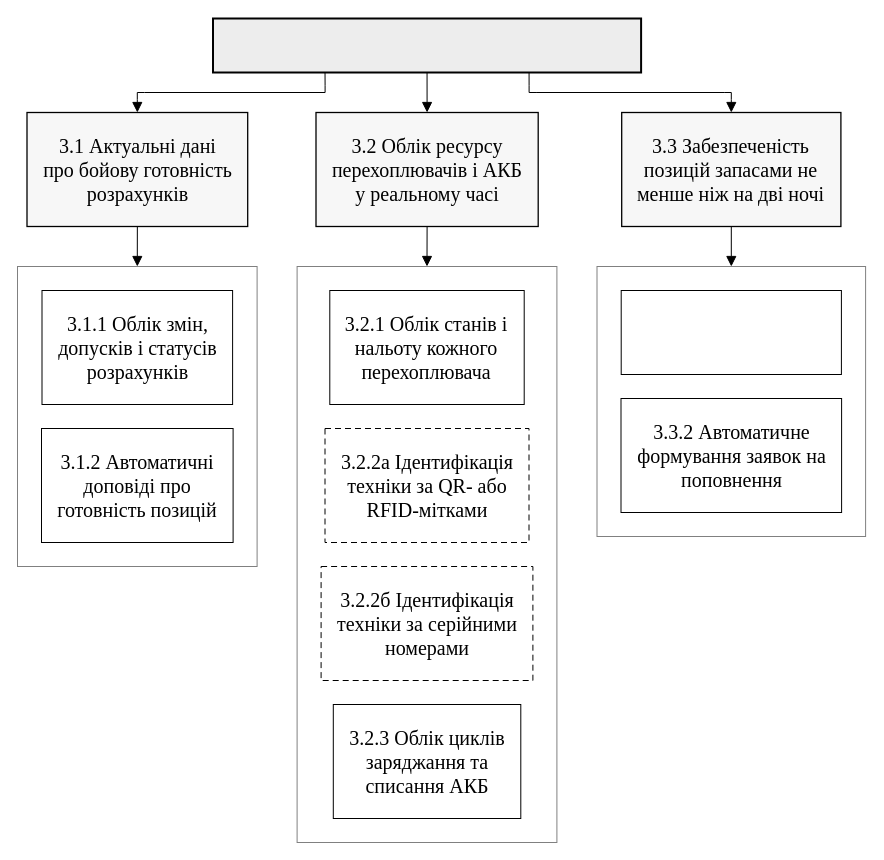
The diagram is 884 pixels wide and 860 high, and some of its shapes have lost their labels. Each missing label, with the centre of its shape:
"3. Ефективне управління ресурсами центру" belongs at (x=427, y=45).
"3.3.1 Прогноз витрати за статистикою атак" belongs at (x=730, y=332).
